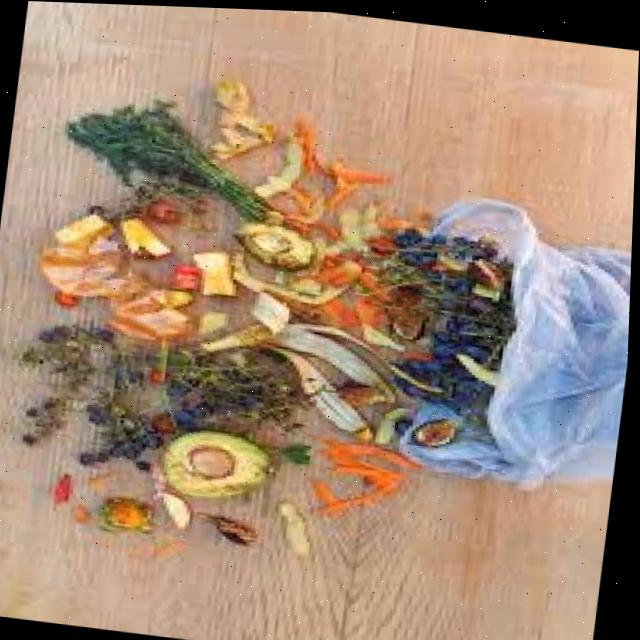Wet: (0, 51, 639, 604), (46, 84, 291, 224), (23, 204, 243, 354), (186, 306, 411, 442), (155, 404, 282, 515)
